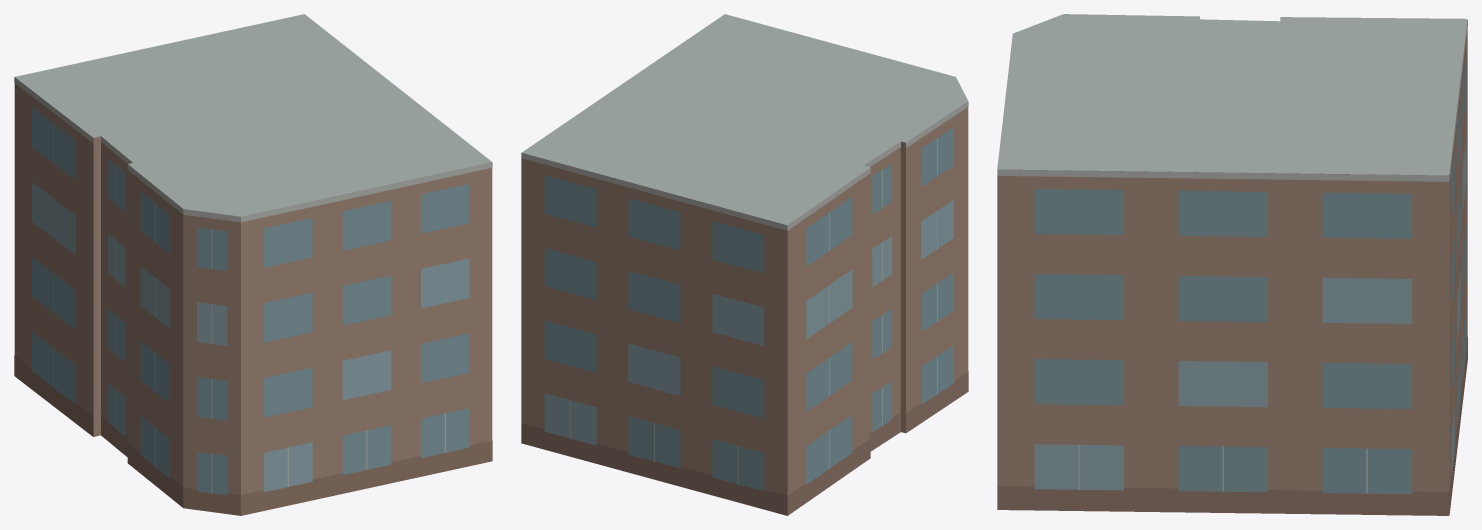
File: survey-upis-32625457.glb
3 renders of one model, left to right at view 1: azimuth 30°, elevation 25°; view 2: azimuth 150°, elevation 25°; view 3: azimuth 270°, elevation 25°, orthographic. The views are drawn at different scales.
Visible parts, largest first — view 1: survey-upis-32625457.tmp; view 2: survey-upis-32625457.tmp; view 3: survey-upis-32625457.tmp.
Part boxes in pixels (left/top/right/bottom): survey-upis-32625457.tmp: left=14, top=14, right=492, bottom=515; survey-upis-32625457.tmp: left=521, top=14, right=968, bottom=515; survey-upis-32625457.tmp: left=997, top=14, right=1467, bottom=515.
Bounding box in the file's own units: 13.13 × 12.9 × 16.17.
